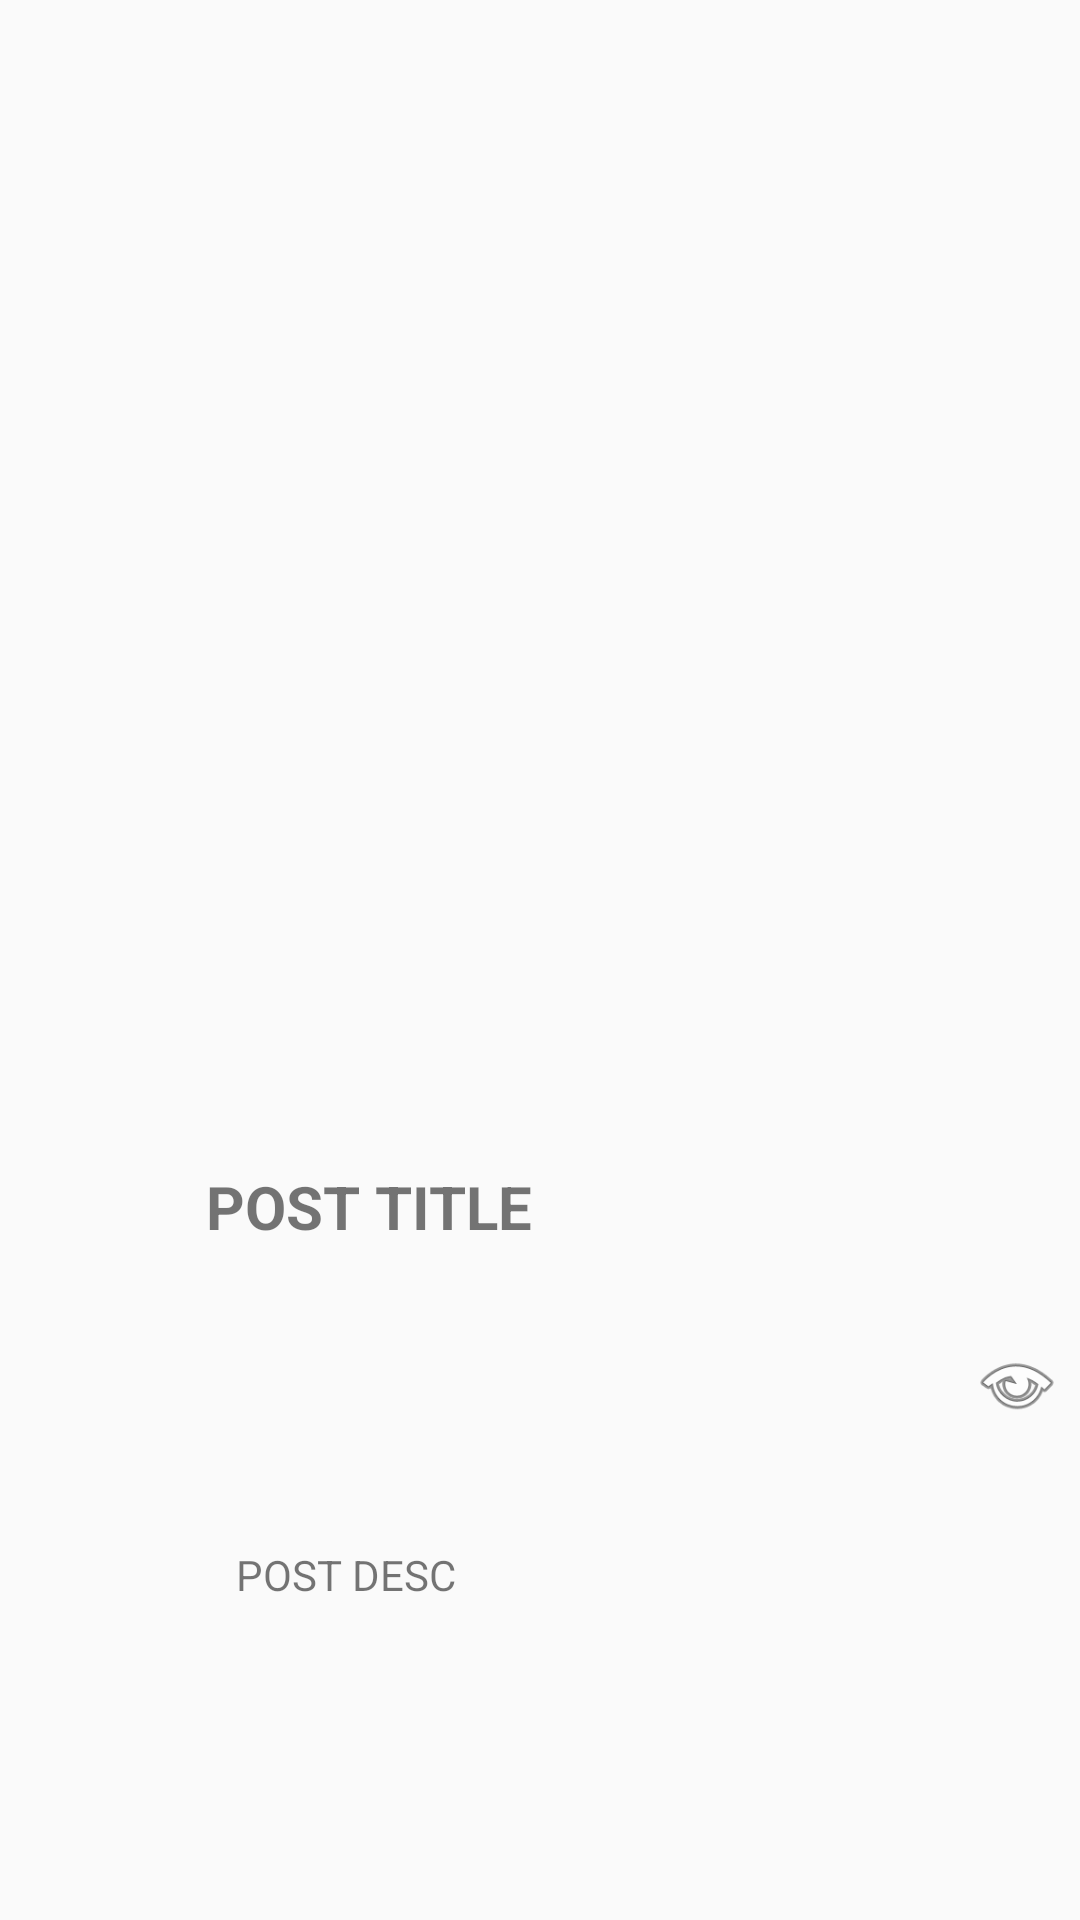

Where icons sit on this 1080×1920 app screen, as {"left": x1, "top": y1, "right": x2, "bottom": y2}:
view: {"left": 980, "top": 1363, "right": 1054, "bottom": 1409}
